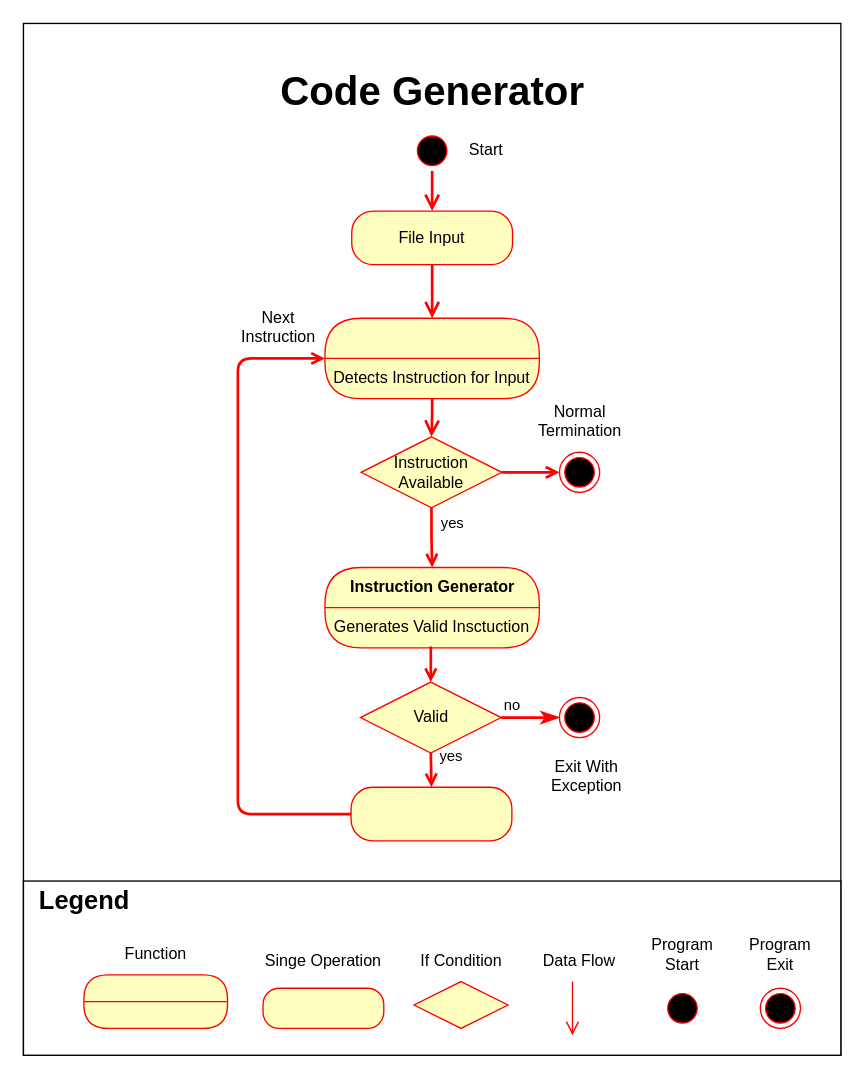
The diagram is 864 pixels wide and 1079 high, and some of its shapes have lost their labels. The shapes that lost their labels are listed below. From the top down, each one's box as (x1, y1, x2, y2) in pixels, then its label:
(324, 317, 539, 399): Instruction Detector
(350, 786, 512, 841): File Output
